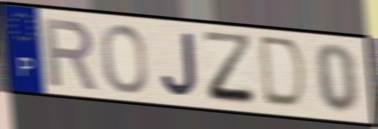0: (313, 42, 362, 117)
D: (260, 33, 310, 113)
J: (159, 30, 200, 99)
O: (99, 22, 150, 95)
R: (41, 15, 99, 92)
Z: (201, 29, 260, 109)
